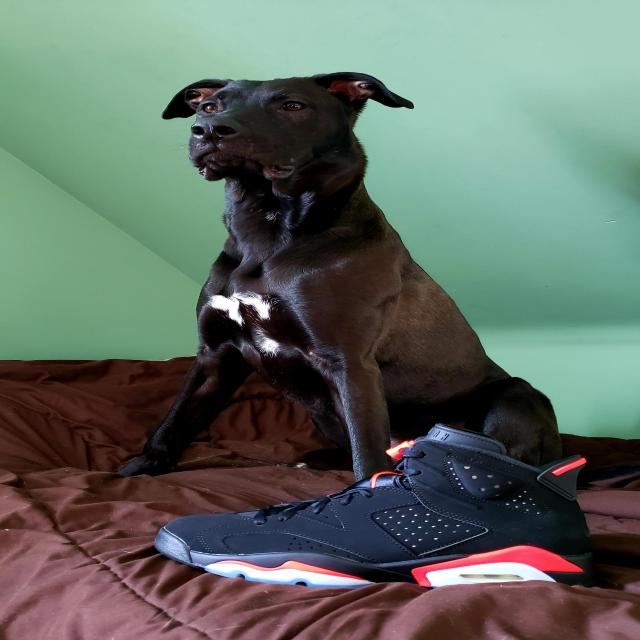shoe: (134, 417, 636, 606)
